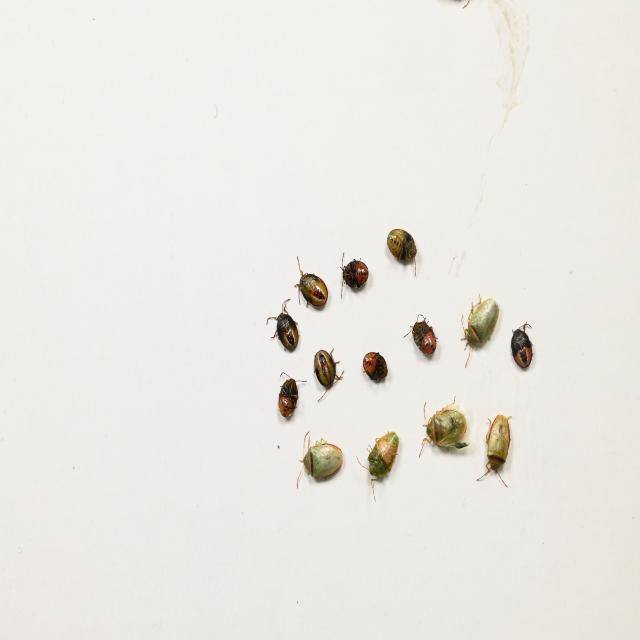stinkbug: (418, 397, 471, 459), (357, 429, 400, 501), (461, 292, 499, 368), (476, 412, 513, 488), (296, 430, 343, 489)
